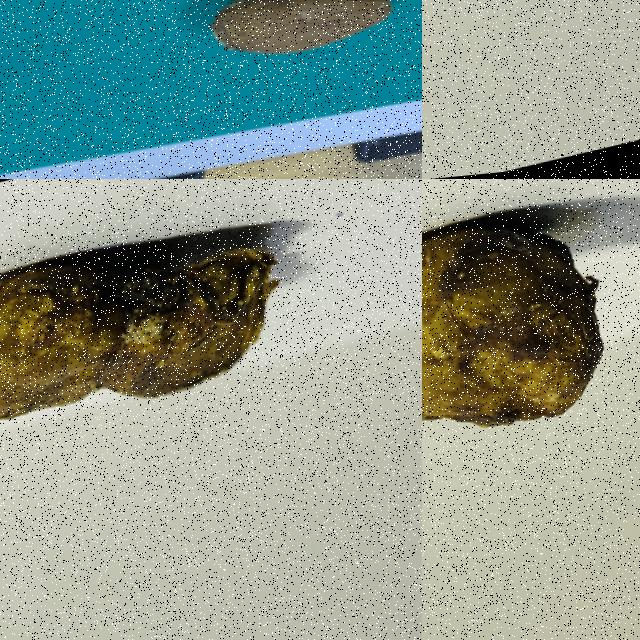Agglomerated_cocoabeans: (0, 179, 365, 493), (422, 179, 639, 545)
Fine_cocoabeans: (190, 0, 421, 98)
